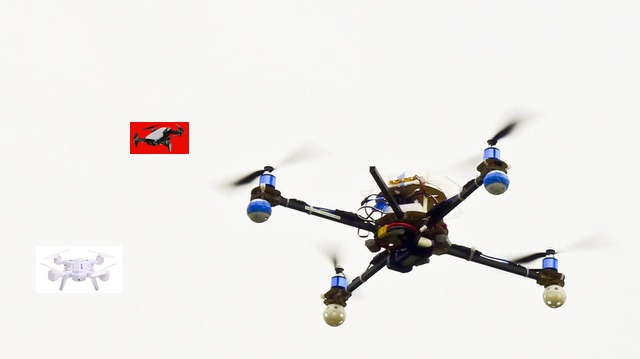drone: (236, 121, 568, 326), (36, 246, 122, 293), (130, 122, 189, 154)
